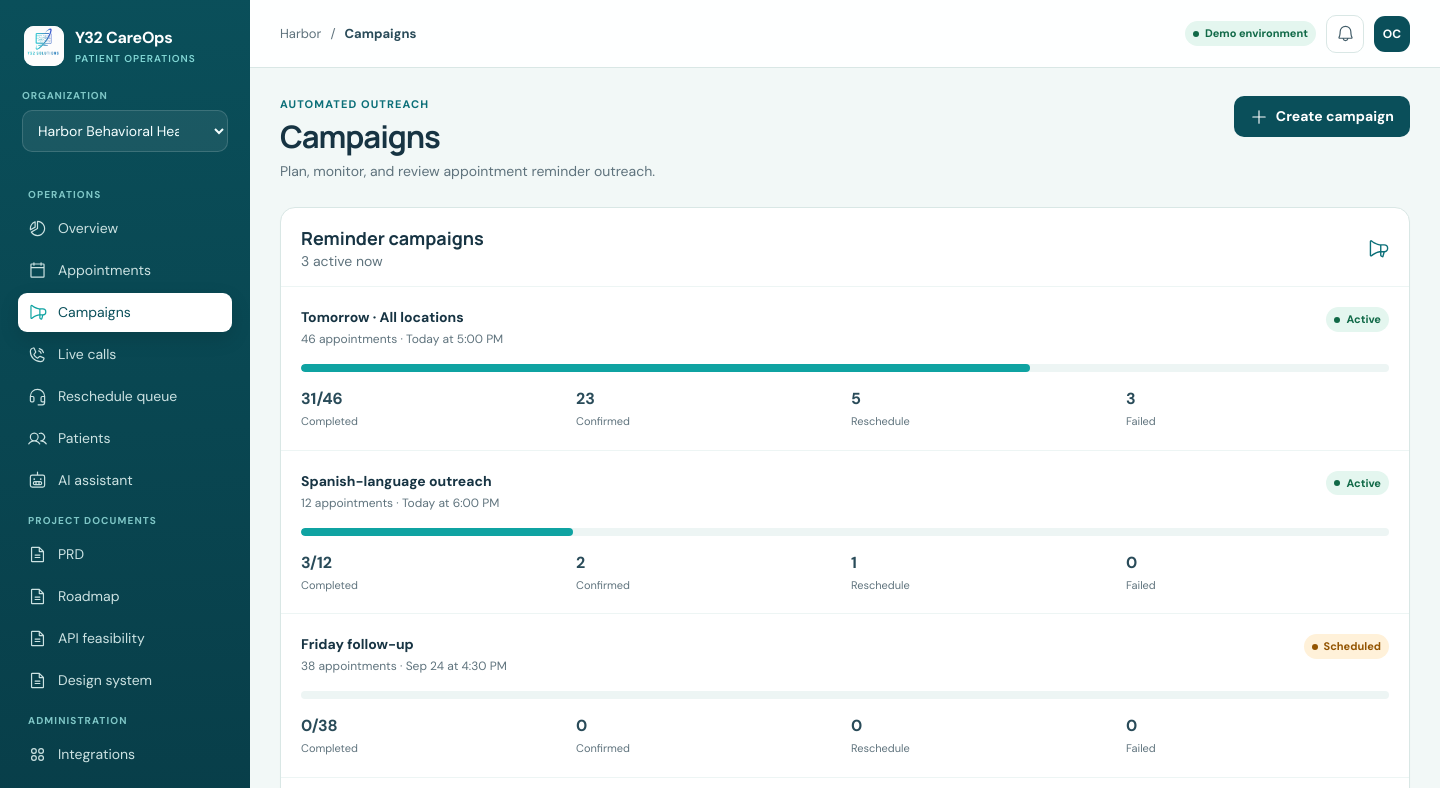
Test: uses the selected organization in the reminder script
The width and height of the screenshot is (1440, 788).
Select "Northstar Family Care" in the dropdown labelled "Organization" at point(125, 131), box x1=22 y1=110 x2=228 y2=152
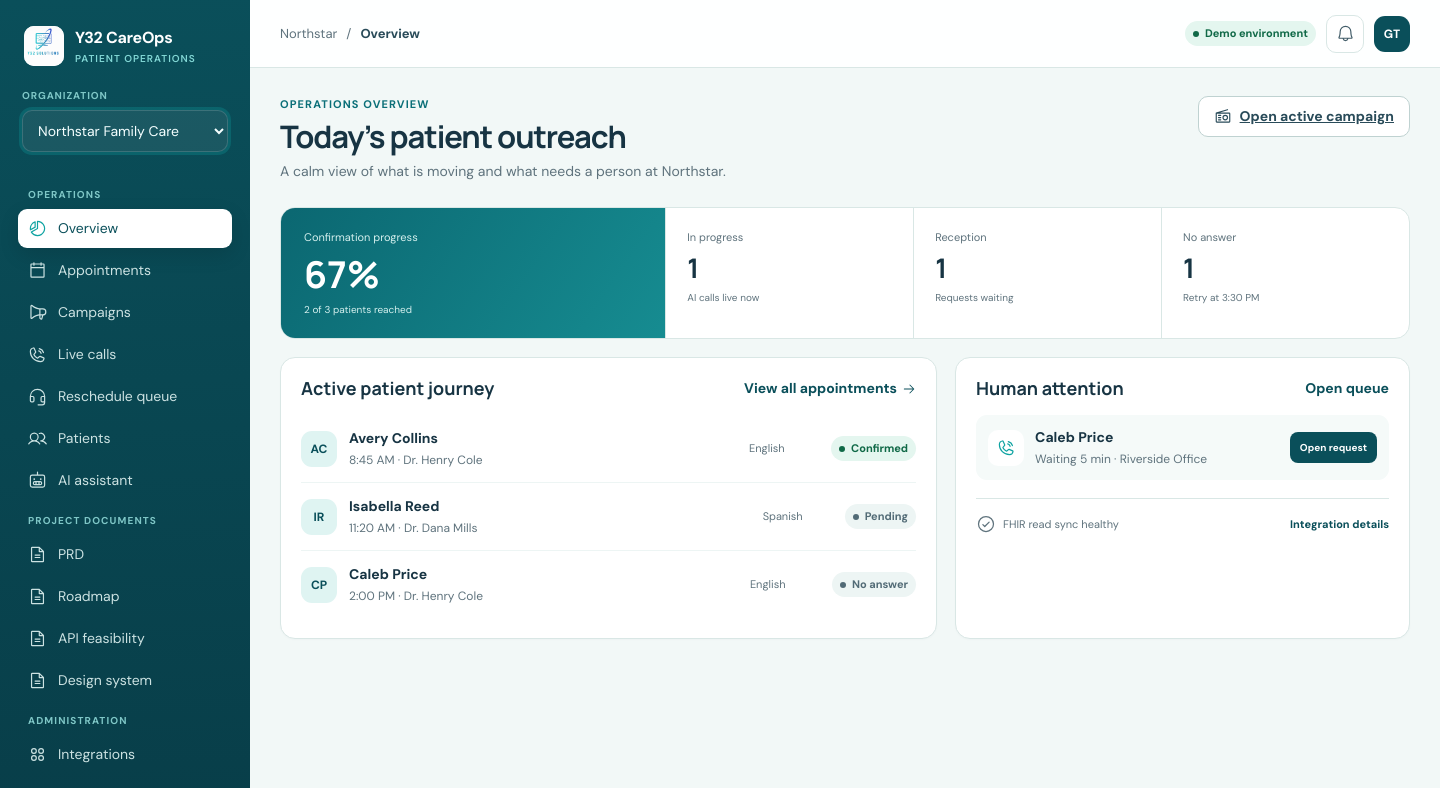
Click the link "Campaigns" at point(79, 312), box x1=28 y1=303 x2=131 y2=322
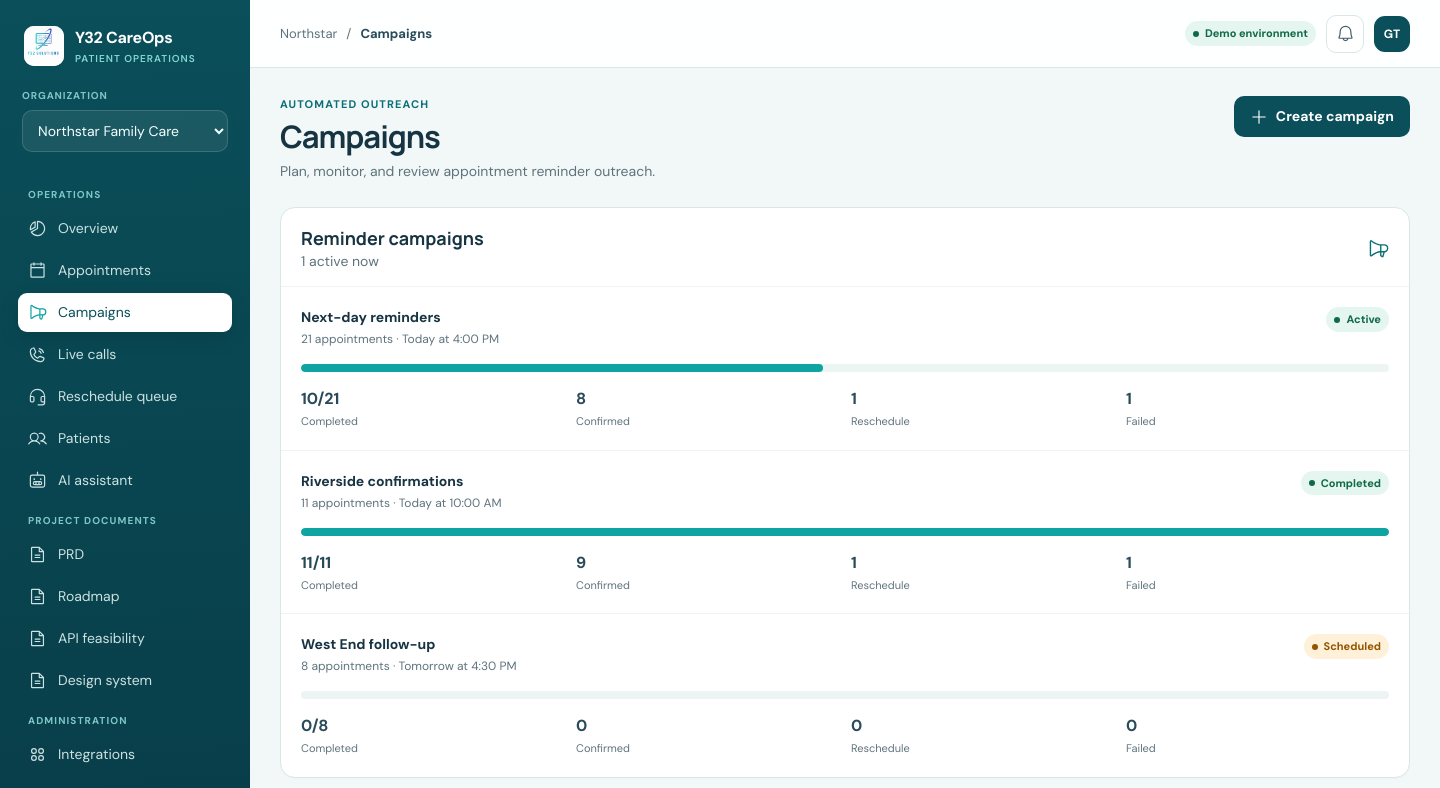
Click the button "Create campaign" at point(1322, 116), box x1=1234 y1=96 x2=1410 y2=137
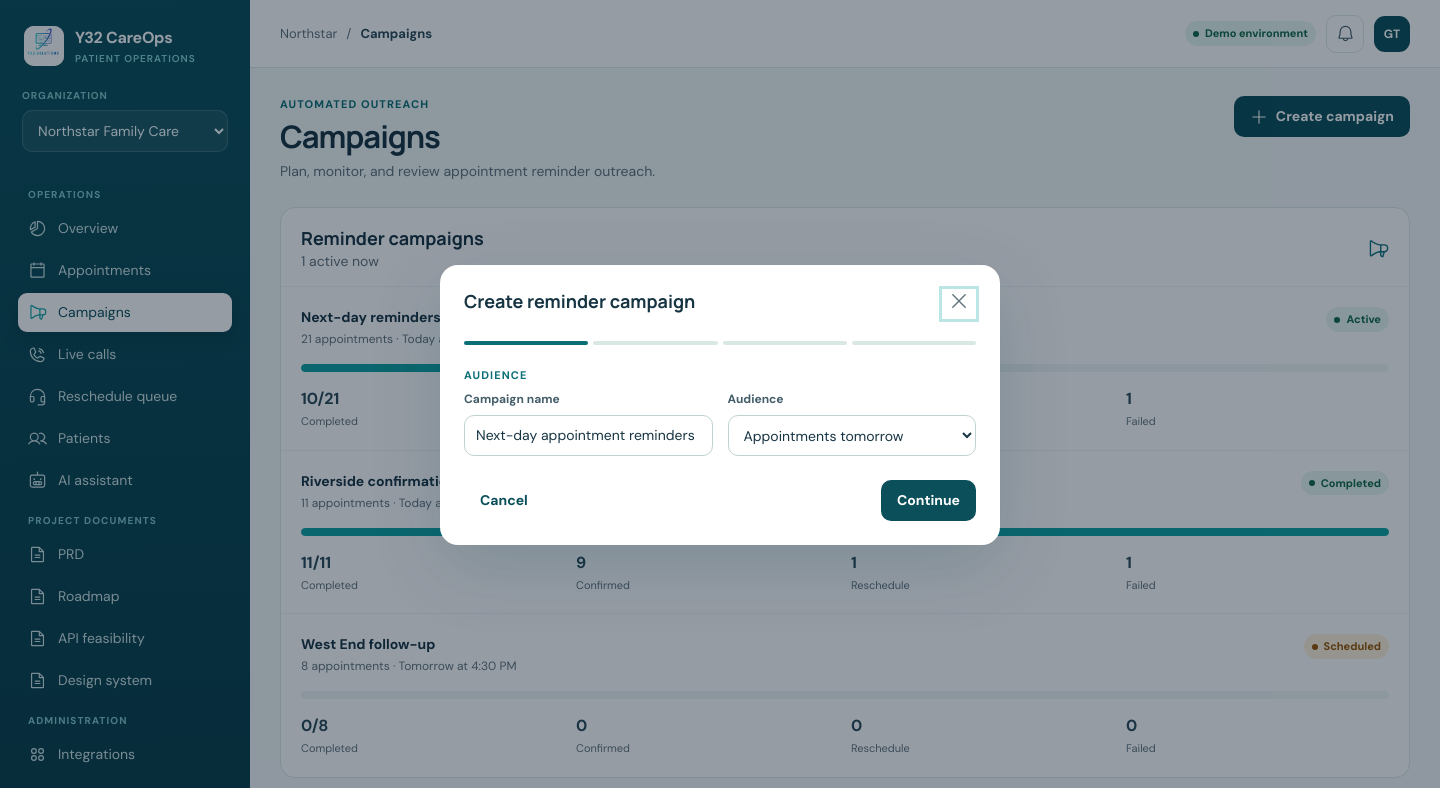
Click the button "Continue" at point(928, 500), box x1=881 y1=480 x2=976 y2=521
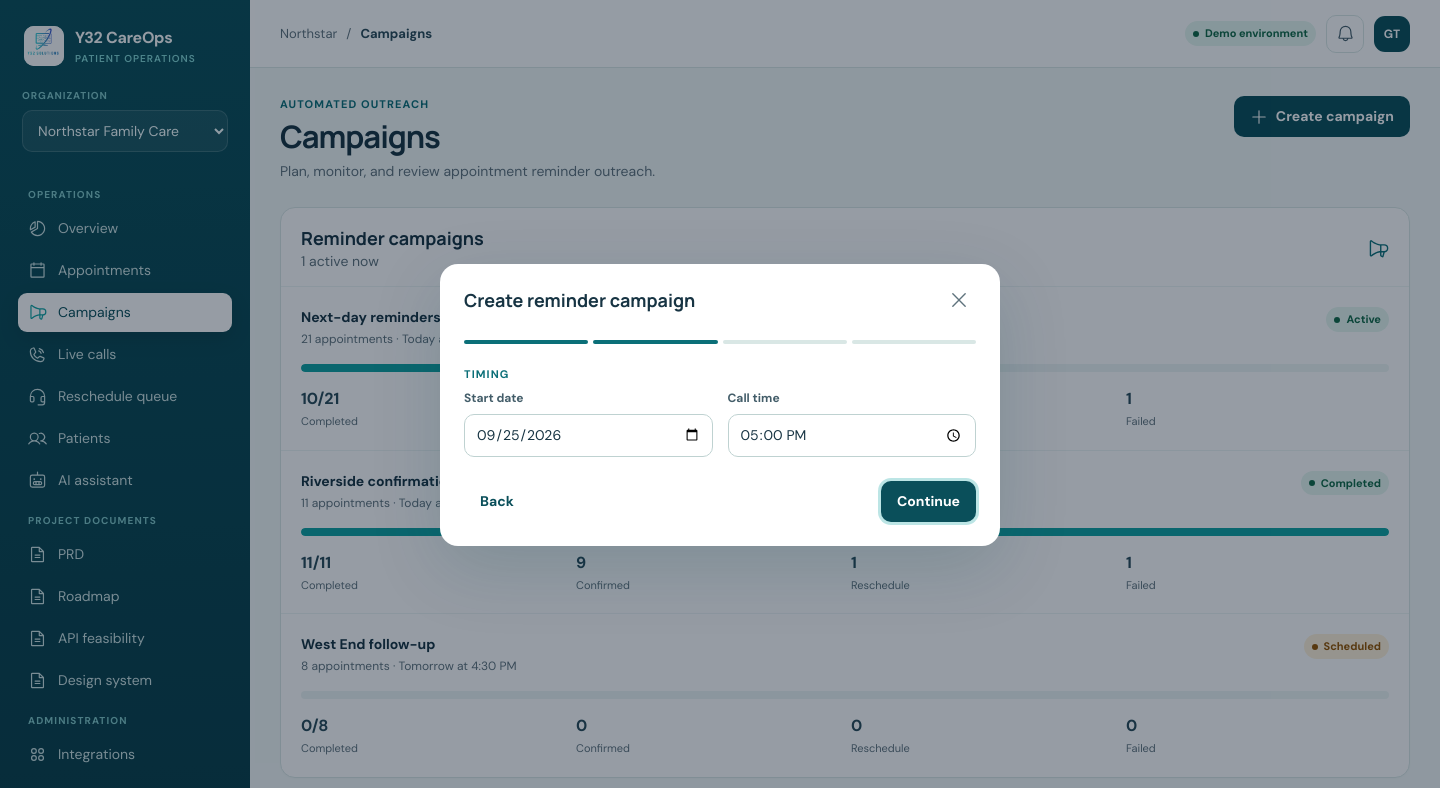
Click the button "Continue" at point(928, 501), box x1=881 y1=481 x2=976 y2=522
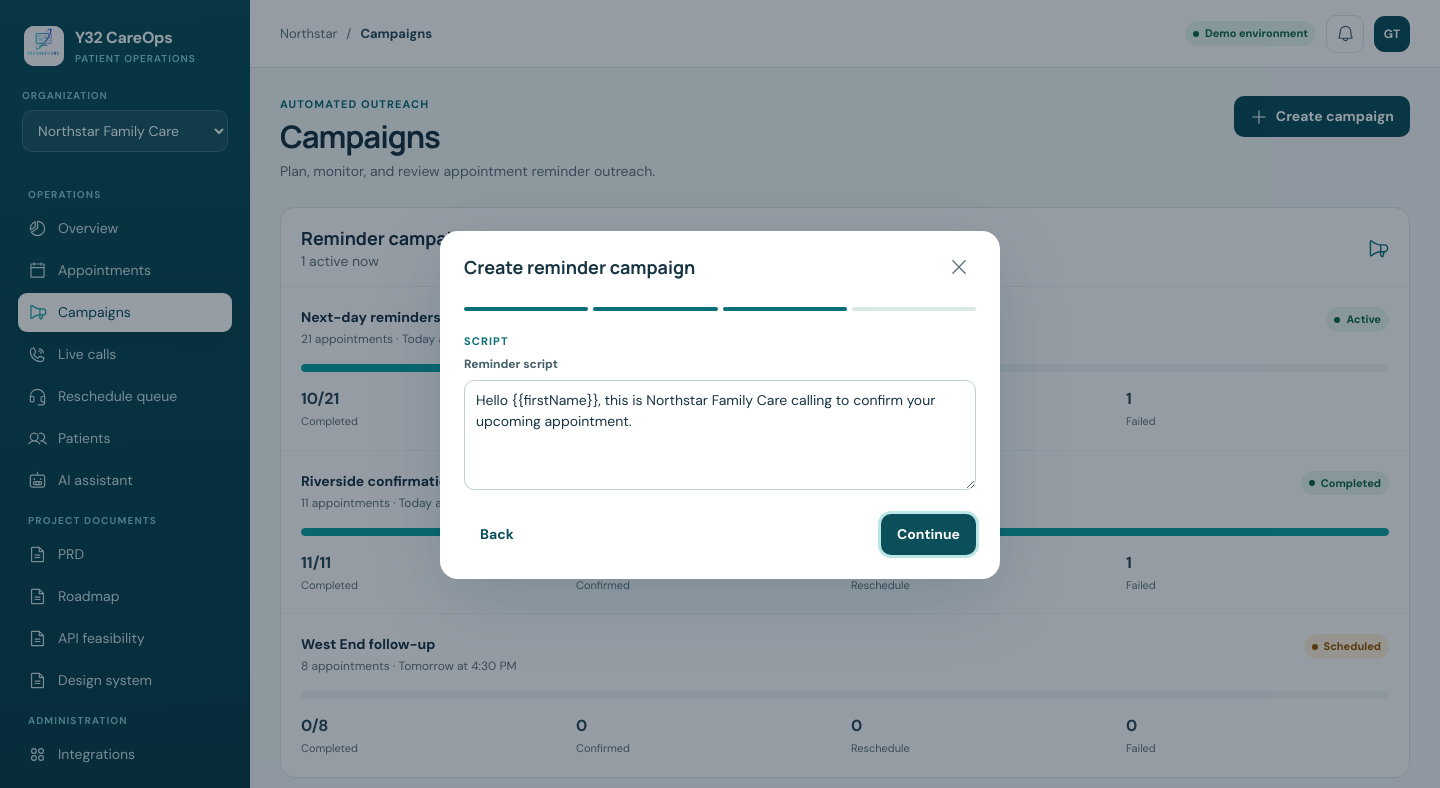
Expected: the text box labelled "Reminder script" holds "Hello {{firstName}}, this is Northstar Family Care calling to confirm your upcoming appointment.", x1=464 y1=380 x2=976 y2=490
